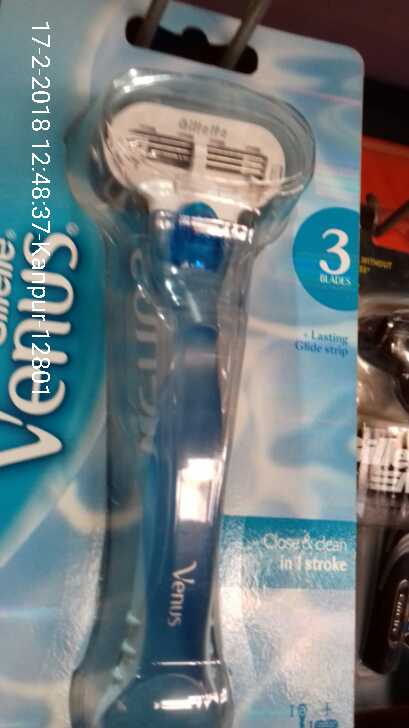venus: (94, 85, 315, 728)
